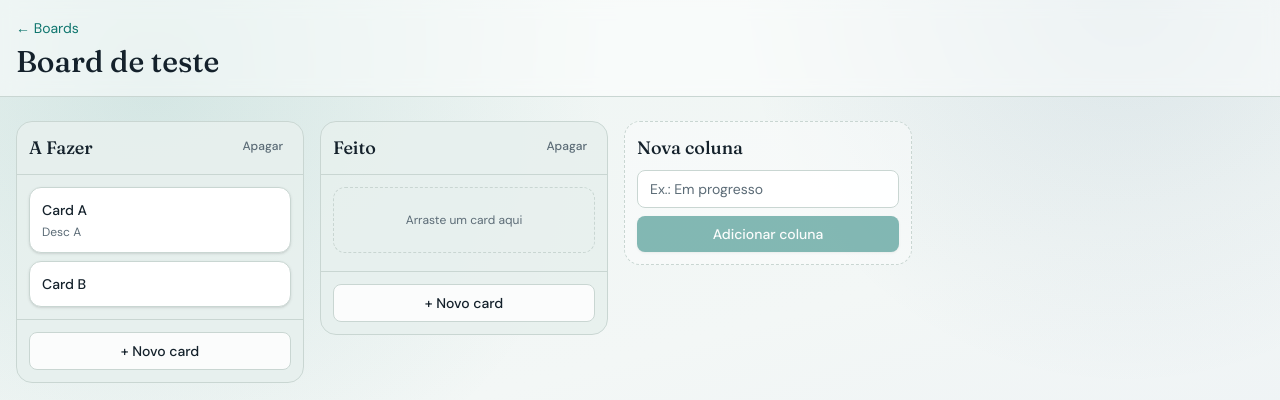
Scenario: BoardPage › creates a column and a card
The width and height of the screenshot is (1280, 400).
Expected: the button "Board de teste" is shown, [16, 44, 219, 80]
In the field with placeholder "Ex.: Em progresso": (768, 189) [637, 170, 899, 208], type "Revisão"
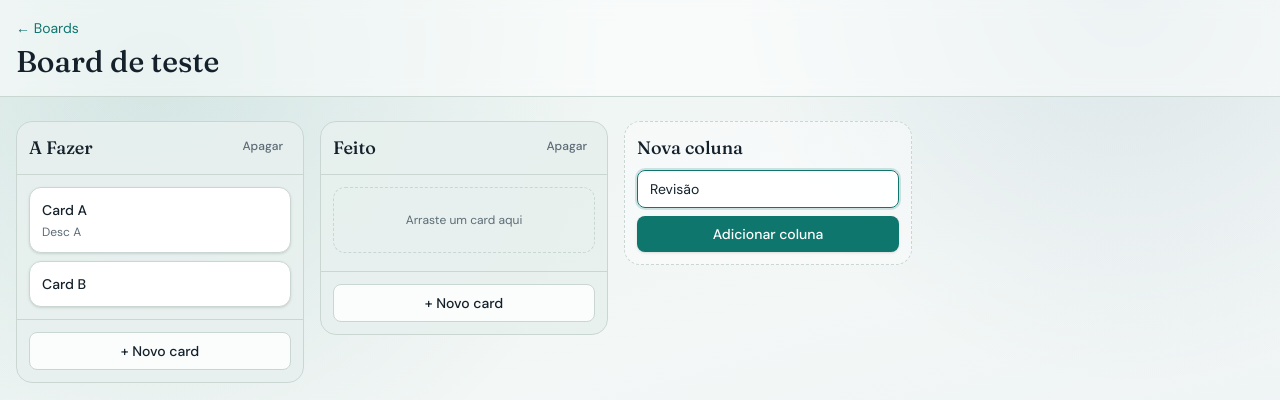
Click the button "Adicionar coluna": click(768, 234) [637, 216, 899, 252]
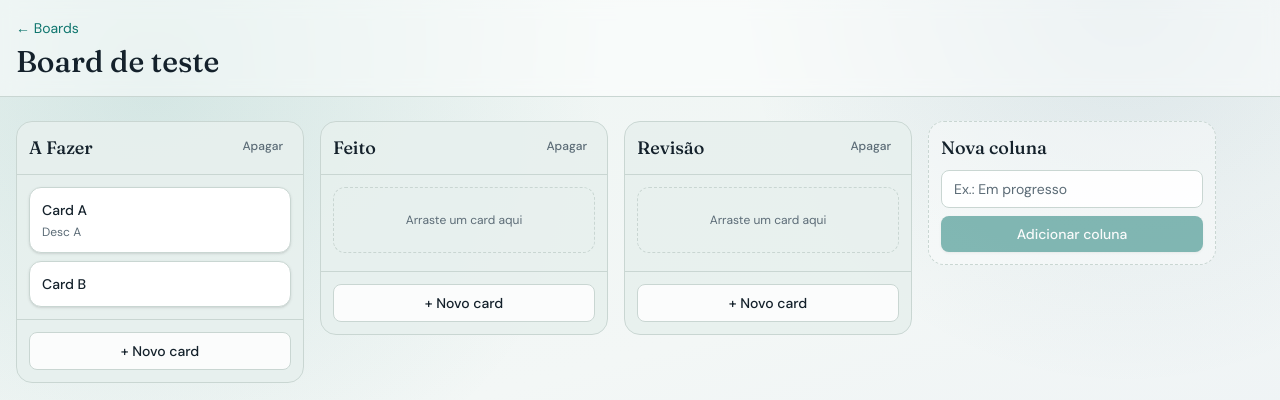
Expected: the element "Feito" is shown, [320, 121, 608, 335]
Expected: the button "Revisão" is shown, [637, 134, 834, 162]
Click the 1st button "+ Novo card": click(464, 303) [333, 284, 595, 322]
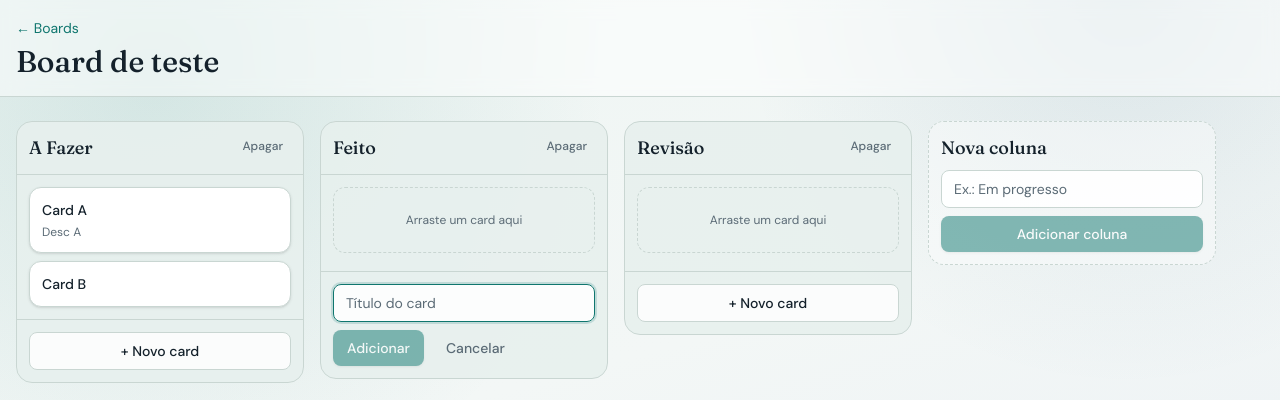
In the field with placeholder "Título do card": (464, 303) [333, 284, 595, 322], type "Card novo"
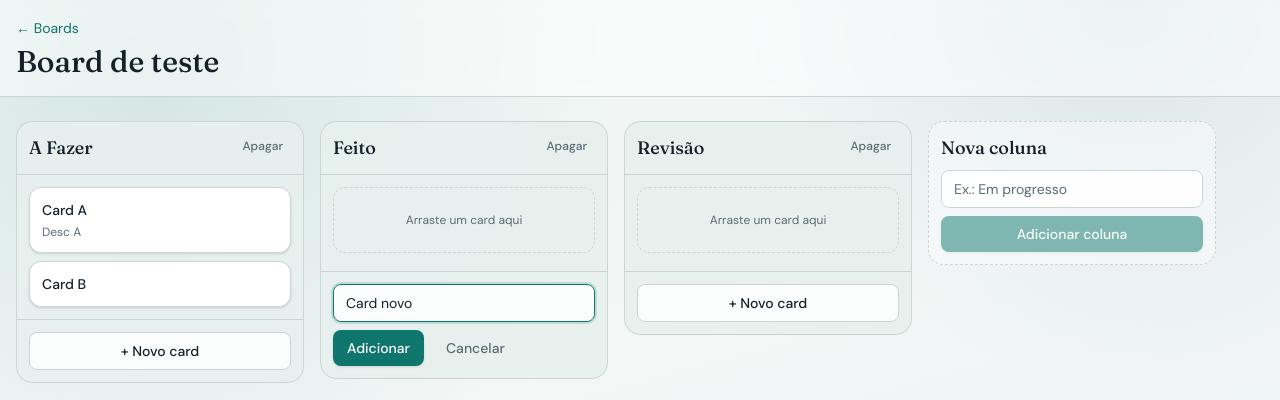
Click the button "Adicionar": click(378, 348) [333, 330, 424, 366]
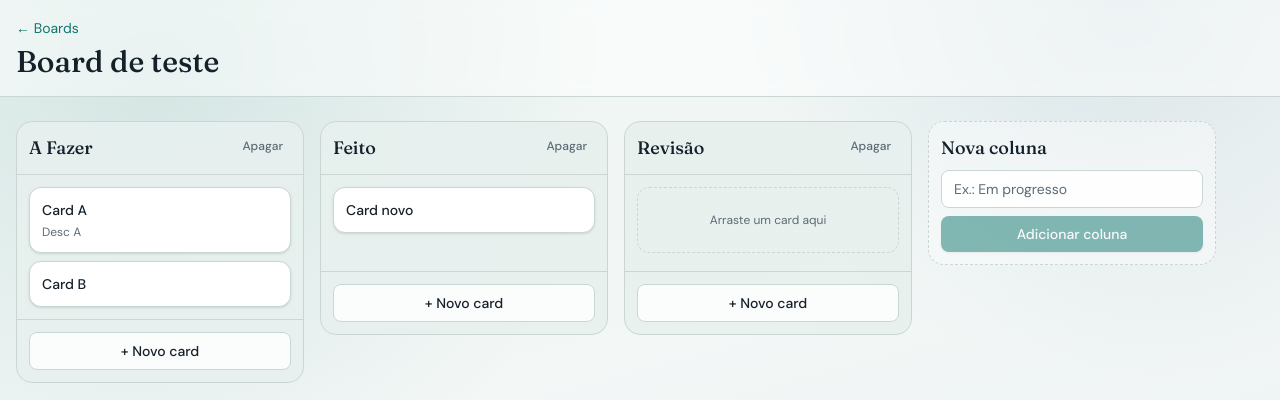
Expected: the button "Card novo" is shown, [333, 187, 595, 233]
